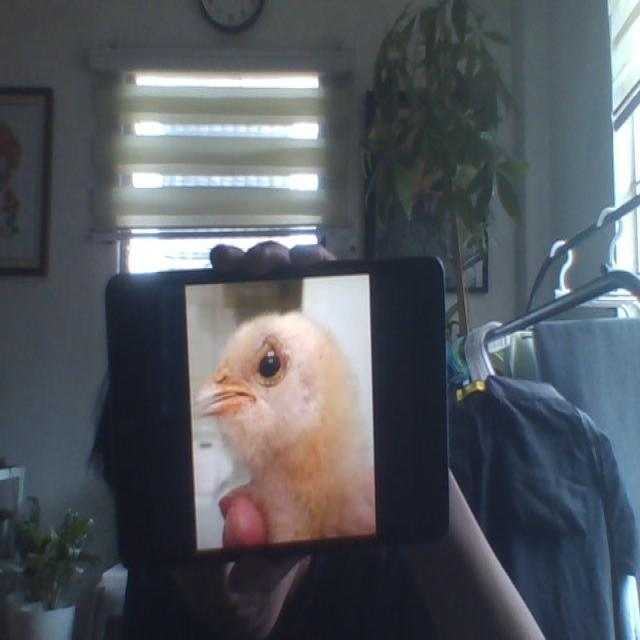Sick: (202, 312, 376, 541)
